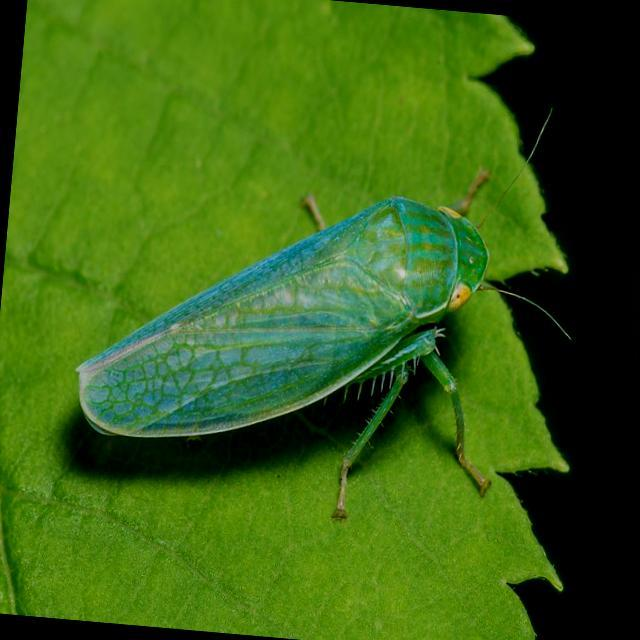green leaf hopper: (77, 175, 503, 518)
